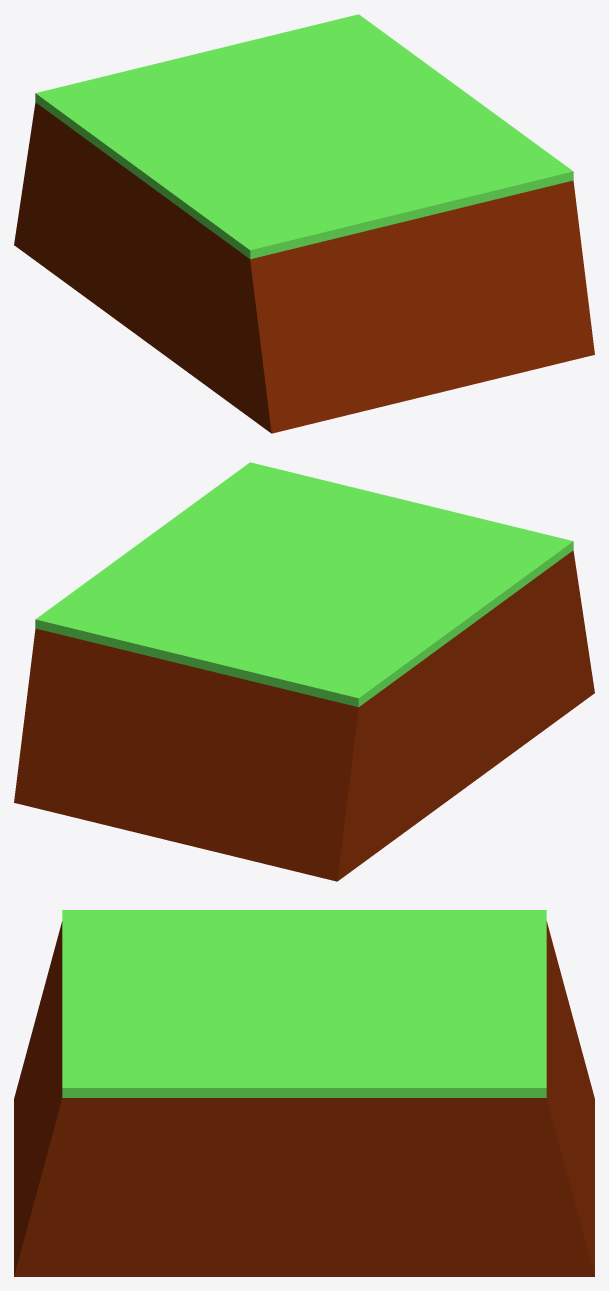
The model's file is escenarioTestIzquierda1L.fbx.
3 renders of one model, top to bottom at view 1: azimuth 30°, elevation 25°; view 2: azimuth 150°, elevation 25°; view 3: azimuth 270°, elevation 25°, orthographic. The views are drawn at different scales.
Visible parts, largest first — view 1: Cube.007; view 2: Cube.007; view 3: Cube.007.
Part boxes in pixels (x1,y1,x2,y2): Cube.007: [14, 14, 594, 433]; Cube.007: [14, 462, 594, 881]; Cube.007: [14, 910, 594, 1276].
Bounding box in the file's own units: 4528 × 2244 × 6249.
